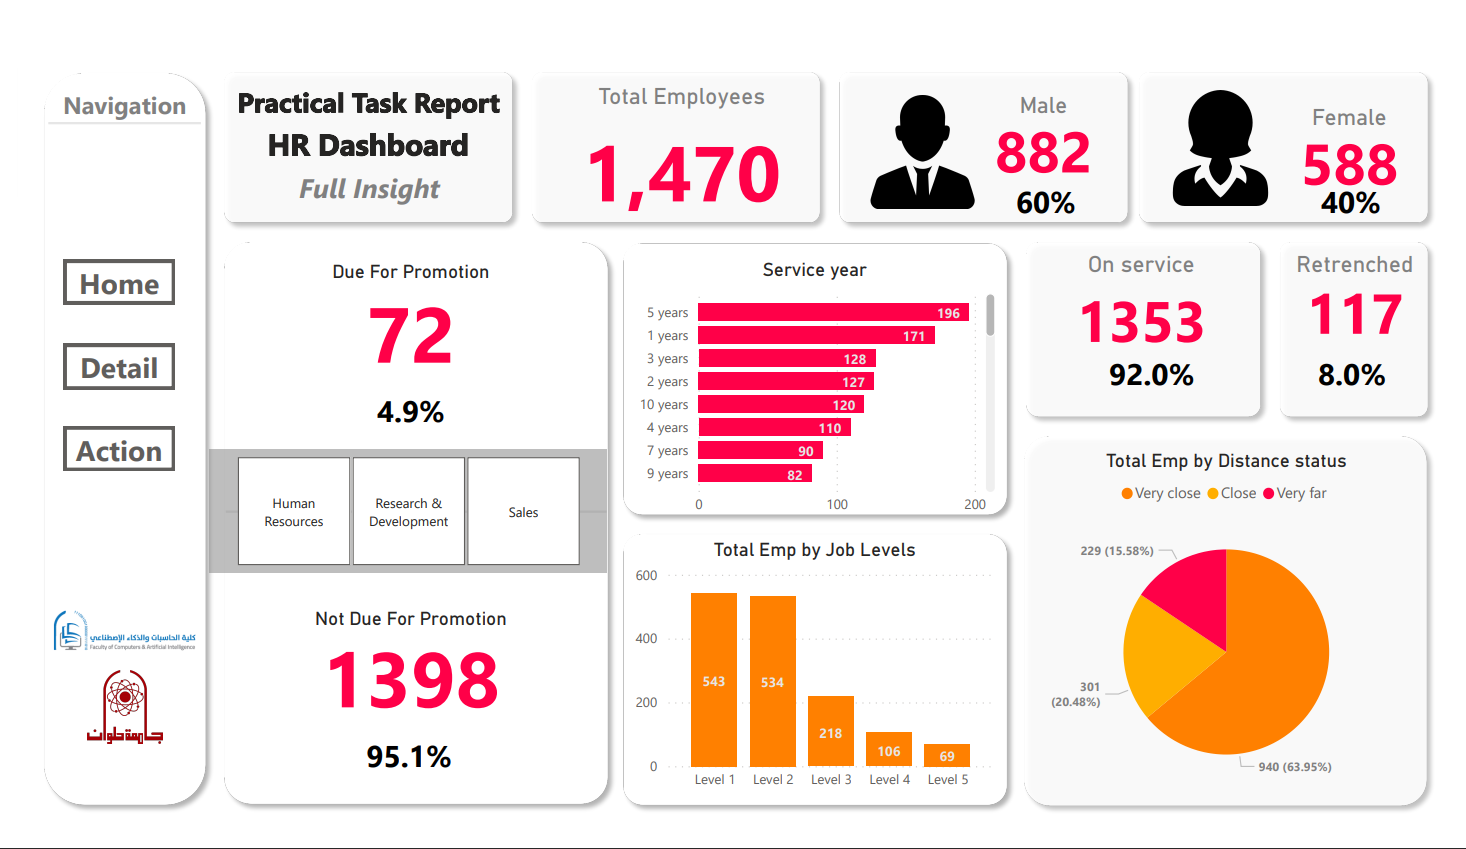

What the dashboard file says about the page in this screenshot:
{"tool":"powerbi","page":{"name":"Task Page 2","canvas":[1280,720],"ordinal":1},"visuals":[{"type":"shape","box":[20.6,22,162.1,674.3],"z":0},{"type":"shape","box":[182.1,21.4,276.1,152.3],"z":1000},{"type":"shape","box":[458.2,21.4,276.1,152.3],"z":2000},{"type":"shape","box":[734.3,21.4,276.1,152.3],"z":3000},{"type":"shape","box":[1003.9,21.4,276.1,152.3],"z":4000},{"type":"textbox","box":[170.2,70.2,299.9,54.7],"z":5000},{"type":"textbox","box":[186.8,111.9,265.4,54.7],"z":6000},{"type":"card","title":"Total Employees","fields":{"Values":["All Measures.Total Emp"]},"box":[470.1,38.1,264.2,128.5],"z":7000},{"type":"card","title":"Male","fields":{"Values":["All Measures.Male"]},"box":[848.5,46.4,155.9,78.5],"z":8000},{"type":"card","title":"Female","fields":{"Values":["All Measures.Female"]},"box":[1124.1,58.3,155.9,78.5],"z":9000},{"type":"image","box":[761.7,45.2,110.7,110.7],"z":10000},{"type":"image","box":[1028.2,38.1,114.2,116.6],"z":11000},{"type":"card","title":"Male","fields":{"Values":["All Measures.% Female"]},"box":[1142.5,105.9,130.9,78.5],"z":12000},{"type":"card","title":"Male","fields":{"Values":["All Measures.% Male"]},"box":[887.8,107.1,83.3,78.5],"z":13000},{"type":"shape","box":[182.1,173.8,367.7,522.4],"z":14000},{"type":"columnChart","title":"Due for promotion and Due for retrenchment by Department","fields":{"Category":["Analytics Data.Department"],"Y":["All Measures.Due for promotion","All Measures.Will be retrenched"]},"box":[192.8,194,357,490.3],"z":15000},{"type":"shape","box":[549.8,173.8,301.1,209.5],"z":16000},{"type":"shape","box":[850.9,173.8,239.2,209.5],"z":17000},{"type":"shape","box":[1084.8,171.4,195.2,211.8],"z":18000},{"type":"columnChart","fields":{"Category":["Analytics Data.Job Satisfaction"],"Y":["All Measures.Total Emp"]},"box":[565.3,184.5,285.6,189.2],"z":19000},{"type":"pieChart","fields":{"Category":["Analytics Data.OverTime"],"Y":["All Measures.Total Emp"]},"box":[864,185.7,211.8,188],"z":20000},{"type":"shape","box":[549.3,373.7,730.7,322.5],"z":21000},{"type":"tableEx","fields":{"Values":["Analytics Data.JobRole","All Measures.Total Emp","All Measures.Due for promotion","All Measures.Will be retrenched"]},"box":[565.3,383.2,702.1,184.5],"z":22000},{"type":"card","title":"High Rated","fields":{"Values":["All Measures.% High Rated"]},"box":[1086.5,228.5,190.4,63.1],"z":23000},{"type":"card","title":"Low Rated","fields":{"Values":["All Measures.% Low Rated"]},"box":[1085.4,301.1,190.4,59.5],"z":24000},{"type":"shape","box":[1092.5,279.7,177.3,23.8],"z":25000},{"type":"textbox","box":[1096.7,177.3,183.3,33.3],"z":26000},{"type":"textbox","box":[33.3,38.1,136.9,39.3],"z":27000},{"type":"shape","box":[33,65.9,137.3,19.2],"z":28000},{"type":"actionButton","box":[46.7,197.8,100.3,39.8],"z":29000},{"type":"actionButton","box":[46.7,347.5,100.3,39.8],"z":30000},{"type":"actionButton","box":[46.7,273.3,100.3,41.2],"z":31000},{"type":"textbox","box":[176.1,35.7,288,45.2],"z":32000},{"type":"slicer","fields":{"Values":["Analytics Data.Department"]},"box":[564.1,578.4,702.1,105.9],"z":33000},{"type":"image","box":[59.1,578.2,76.9,81],"z":34000},{"type":"image","box":[28.8,465.6,137.3,166.2],"z":35000}]}

Visuals, with their boxes on the page's 1280x720 design canvas (x1, y1, x2, y2). These are canvas units, not pixel positions in the 1466x849 screenshot, which may show the page scaled, cropped or inside an application window:
shape: (21, 22, 183, 696)
shape: (182, 21, 458, 174)
shape: (458, 21, 734, 174)
shape: (734, 21, 1010, 174)
shape: (1004, 21, 1280, 174)
textbox: (170, 70, 470, 125)
textbox: (187, 112, 452, 167)
"Total Employees" card: (470, 38, 734, 167)
"Male" card: (848, 46, 1004, 125)
"Female" card: (1124, 58, 1280, 137)
image: (762, 45, 872, 156)
image: (1028, 38, 1142, 155)
"Male" card: (1142, 106, 1273, 184)
"Male" card: (888, 107, 971, 186)
shape: (182, 174, 550, 696)
"Due for promotion and Due for retrenchment by Department" columnChart: (193, 194, 550, 684)
shape: (550, 174, 851, 383)
shape: (851, 174, 1090, 383)
shape: (1085, 171, 1280, 383)
columnChart - Analytics Data.Job Satisfaction x All Measures.Total Emp: (565, 184, 851, 374)
pieChart - Analytics Data.OverTime x All Measures.Total Emp: (864, 186, 1076, 374)
shape: (549, 374, 1280, 696)
tableEx - Analytics Data.JobRole x All Measures.Total Emp: (565, 383, 1267, 568)
"High Rated" card: (1086, 228, 1277, 292)
"Low Rated" card: (1085, 301, 1276, 361)
shape: (1092, 280, 1270, 304)
textbox: (1097, 177, 1280, 211)
textbox: (33, 38, 170, 77)
shape: (33, 66, 170, 85)
actionButton: (47, 198, 147, 238)
actionButton: (47, 348, 147, 387)
actionButton: (47, 273, 147, 314)
textbox: (176, 36, 464, 81)
slicer - Analytics Data.Department: (564, 578, 1266, 684)
image: (59, 578, 136, 659)
image: (29, 466, 166, 632)
